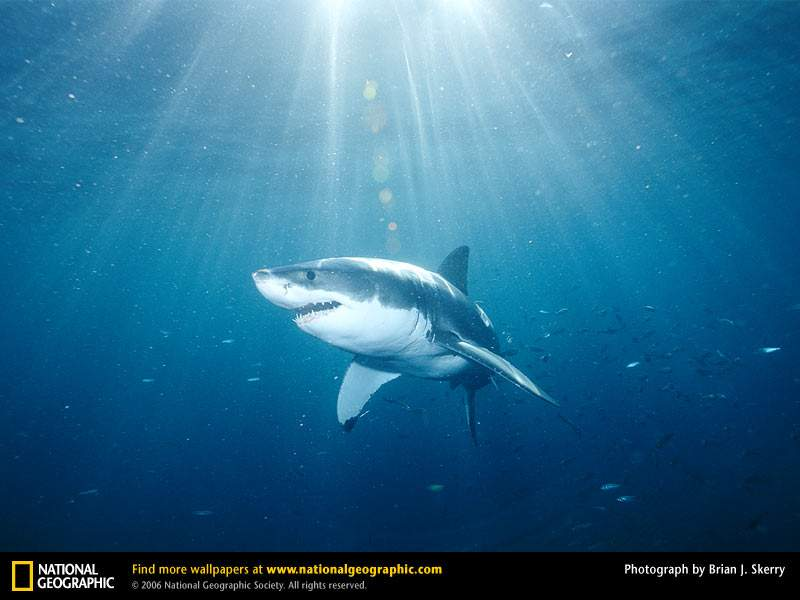shark: (251, 244, 562, 435)
